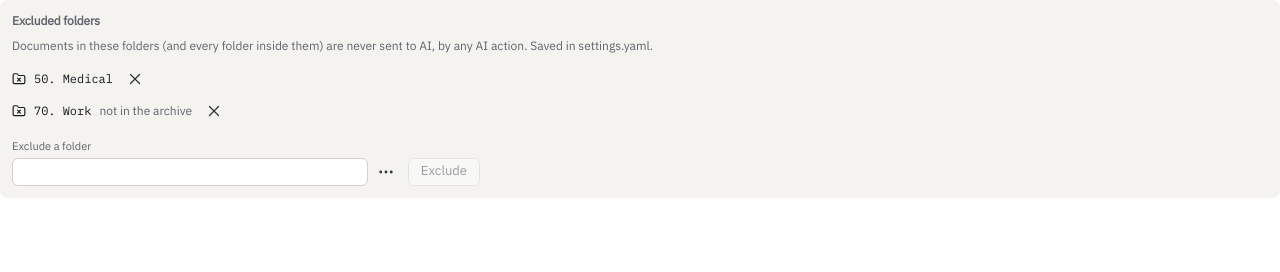
it: Excluded folders (Activity → AI) › a refused save is shown and the field keeps what was typed
This screenshot has width=1280, height=272.
Type "../x" into the dropdown labelled "Exclude a folder".
click(190, 172); type("../x")  # box [12,158,368,186]
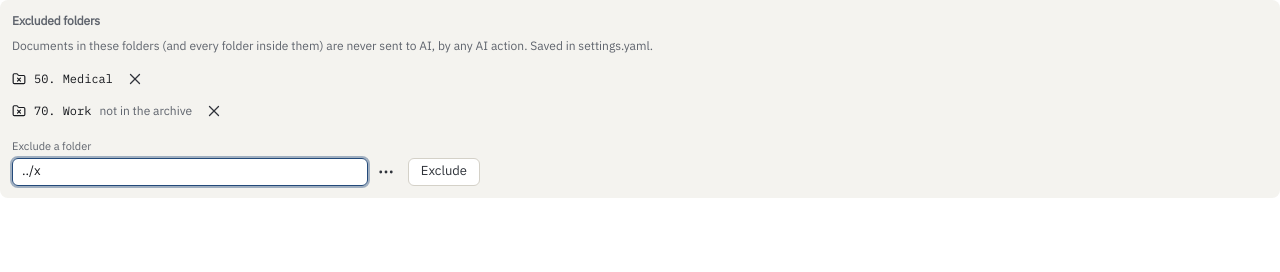
Click the button "Exclude".
click(444, 172)  # box [408,158,480,186]
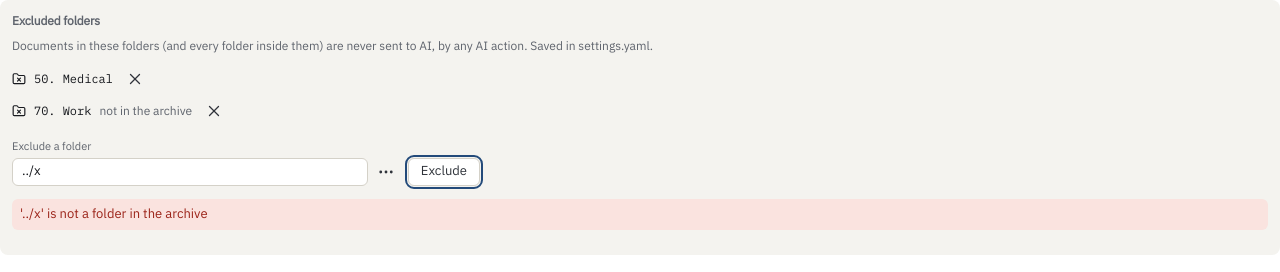
Now the message shows "is not a folder in the archive", box [20,205,208,222]
